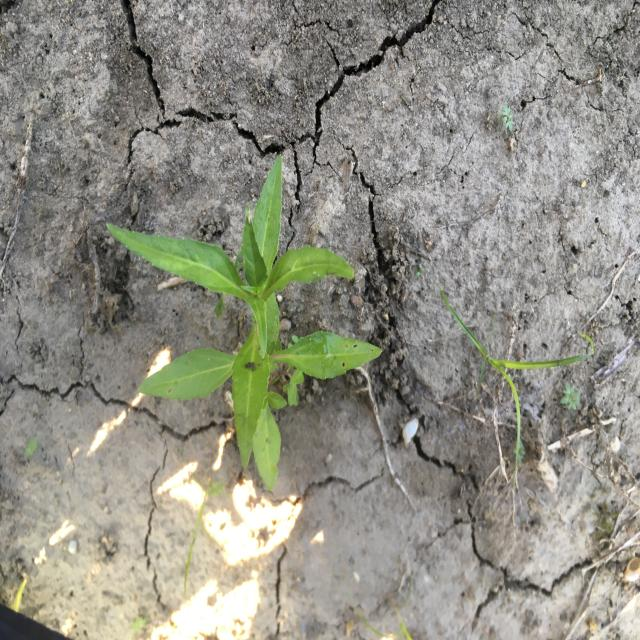Eclipta: (104, 150, 383, 492)
